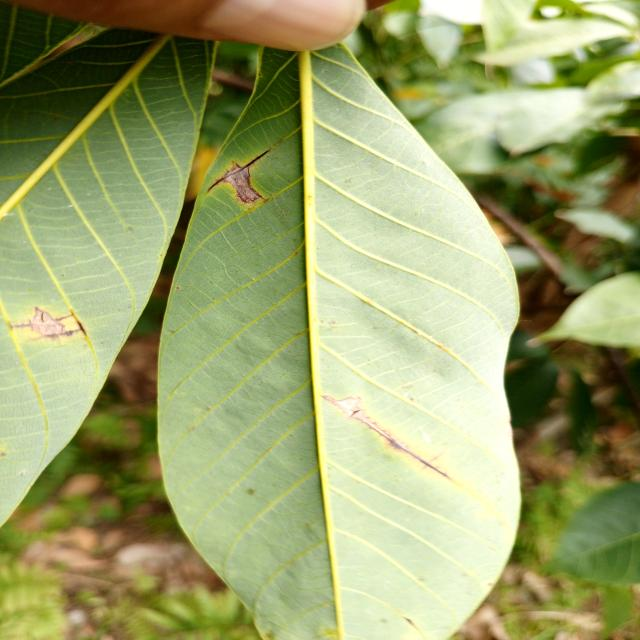Corynespora: (322, 394, 451, 480), (206, 147, 272, 204), (8, 304, 87, 340), (237, 148, 273, 173), (206, 178, 223, 194)
Leaf-Blight: (224, 166, 259, 201)
